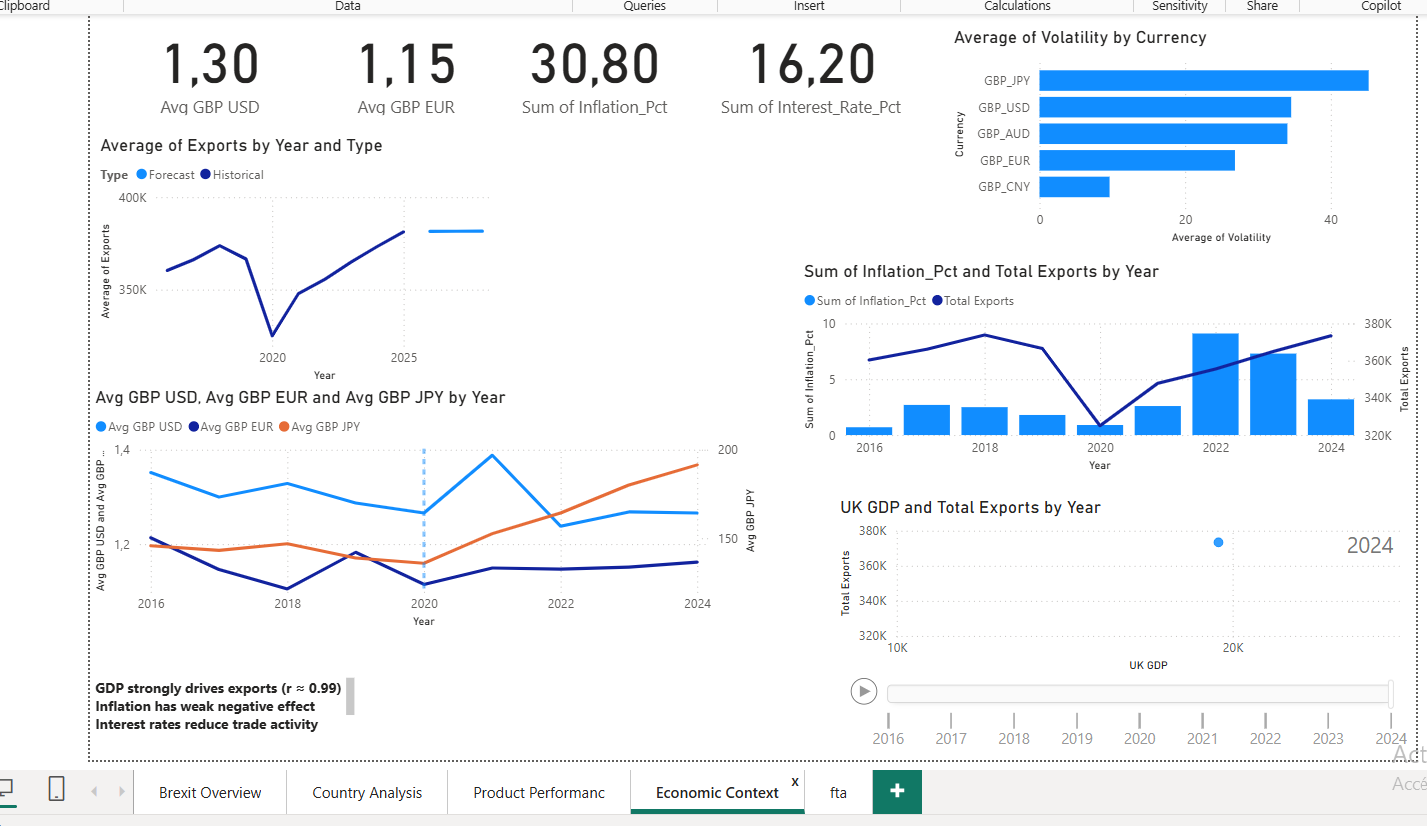

The dashboard page shown, as its layout file describes it:
{"tool":"powerbi","page":{"name":"Economic Context","canvas":[1280,720],"ordinal":3},"visuals":[{"type":"card","fields":{"Values":["richlist dataset3_gbp_exchange_rates.Avg GBP USD"]},"box":[0,0,173.7,102.5],"z":0},{"type":"card","fields":{"Values":["richlist dataset3_gbp_exchange_rates.Avg GBP EUR"]},"box":[187,1.2,183.4,101.3],"z":1000},{"type":"card","fields":{"Values":["Sum(richlist dataset4_uk_economic_indicators.Inflation_Pct)"]},"box":[382.4,0,197.9,102.5],"z":2000},{"type":"card","fields":{"Values":["Sum(richlist dataset4_uk_economic_indicators.Interest_Rate_Pct)"]},"box":[591.2,0,188.2,102.5],"z":3000},{"type":"lineChart","fields":{"Category":["richlist dataset3_gbp_exchange_rates.Year"],"Y":["richlist dataset3_gbp_exchange_rates.Avg GBP USD","richlist dataset3_gbp_exchange_rates.Avg GBP EUR"],"Y2":["richlist dataset3_gbp_exchange_rates.Avg GBP JPY"]},"box":[0,359.5,649.1,237.7],"z":4000},{"type":"barChart","fields":{"Category":["Table.Currency"],"Y":["Avg(Table.Volatility)"]},"box":[787.8,12.1,492.2,214.7],"z":5000},{"type":"scatterChart","fields":{"X":["richlist dataset4_uk_economic_indicators.UK GDP"],"Y":["richlist table1_trade_by_country.Total Exports"],"Play":["richlist table1_trade_by_country.Year"]},"box":[685.3,488.6,594.8,231.6],"z":6000},{"type":"lineStackedColumnComboChart","fields":{"Y":["Sum(richlist dataset4_uk_economic_indicators.Inflation_Pct)"],"Category":["richlist dataset4_uk_economic_indicators.Year"],"Y2":["richlist table1_trade_by_country.Total Exports"]},"box":[684.1,254.6,596,208.7],"z":7000},{"type":"lineChart","fields":{"Category":["arima.Year"],"Series":["arima.Type"],"Y":["Avg(arima.Exports)"]},"box":[4.8,115.8,598.4,226.8],"z":8000},{"type":"textbox","box":[35,621.3,524.8,98.9],"z":9000}]}

Visuals, with their boxes on the page's 1280x720 design canvas (x1, y1, x2, y2). These are canvas units, not pixel positions in the 1427x826 screenshot, which may show the page scaled, cropped or inside an application window:
card - richlist dataset3_gbp_exchange_rates.Avg GBP USD: rect(0, 0, 174, 102)
card - richlist dataset3_gbp_exchange_rates.Avg GBP EUR: rect(187, 1, 370, 102)
card - Sum(richlist dataset4_uk_economic_indicators.Inflation_Pct): rect(382, 0, 580, 102)
card - Sum(richlist dataset4_uk_economic_indicators.Interest_Rate_Pct): rect(591, 0, 779, 102)
lineChart - richlist dataset3_gbp_exchange_rates.Year x richlist dataset3_gbp_exchange_rates.Avg GBP USD: rect(0, 360, 649, 597)
barChart - Table.Currency x Avg(Table.Volatility): rect(788, 12, 1280, 227)
scatterChart - richlist dataset4_uk_economic_indicators.UK GDP x richlist table1_trade_by_country.Total Exports: rect(685, 489, 1280, 720)
lineStackedColumnComboChart - Sum(richlist dataset4_uk_economic_indicators.Inflation_Pct) x richlist dataset4_uk_economic_indicators.Year: rect(684, 255, 1280, 463)
lineChart - arima.Year x arima.Type: rect(5, 116, 603, 343)
textbox: rect(35, 621, 560, 720)
